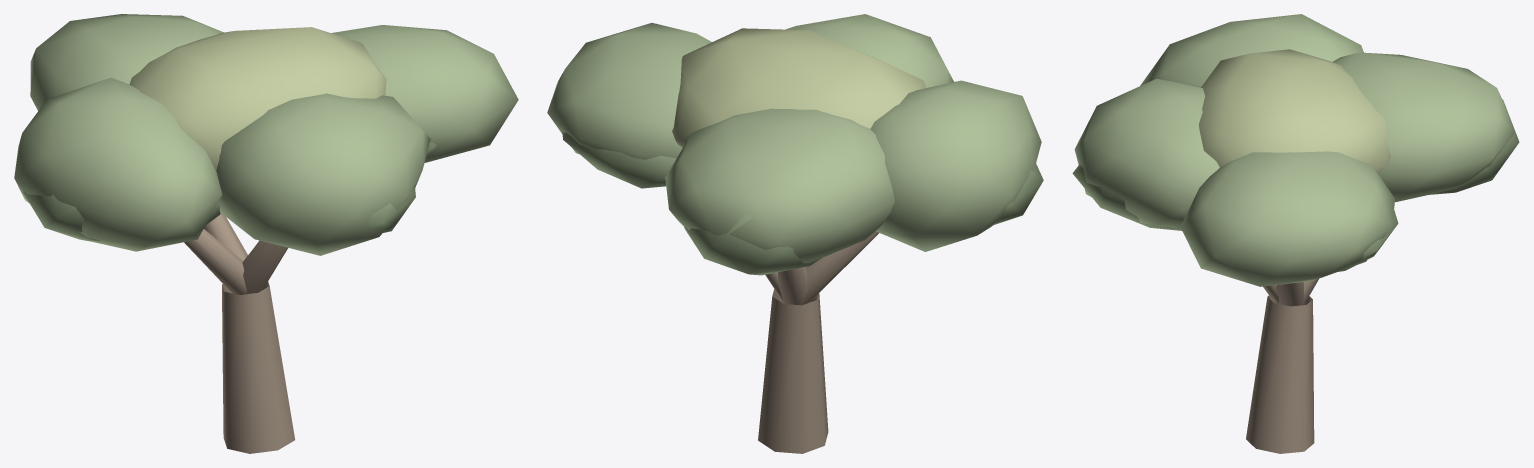
File: tree_ombu_3.glb
3 views of the same model, side by side, from view 1: azimuth 30°, elevation 25°; view 2: azimuth 150°, elevation 25°; view 3: azimuth 270°, elevation 25° (orthographic). The views are drawn at different scales.
Parts seen in each view (by area): view 1: tree_ombu_3.glb; view 2: tree_ombu_3.glb; view 3: tree_ombu_3.glb.
Part boxes in pixels (x1,y1,x2,y2): tree_ombu_3.glb: (14,14,518,453); tree_ombu_3.glb: (547,14,1043,453); tree_ombu_3.glb: (1072,14,1519,453).
Size of the model in its own units: 6.96 by 5.69 by 6.26.
